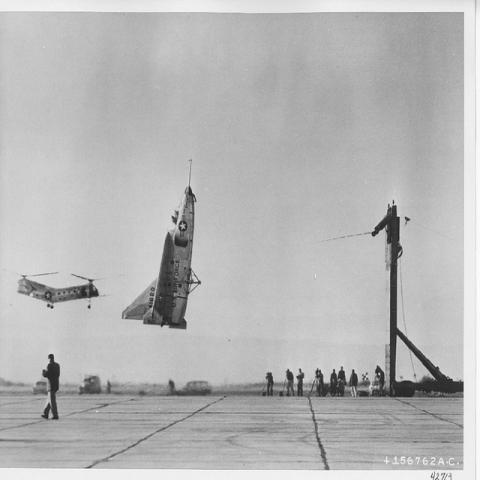truck: (78, 374, 102, 395)
